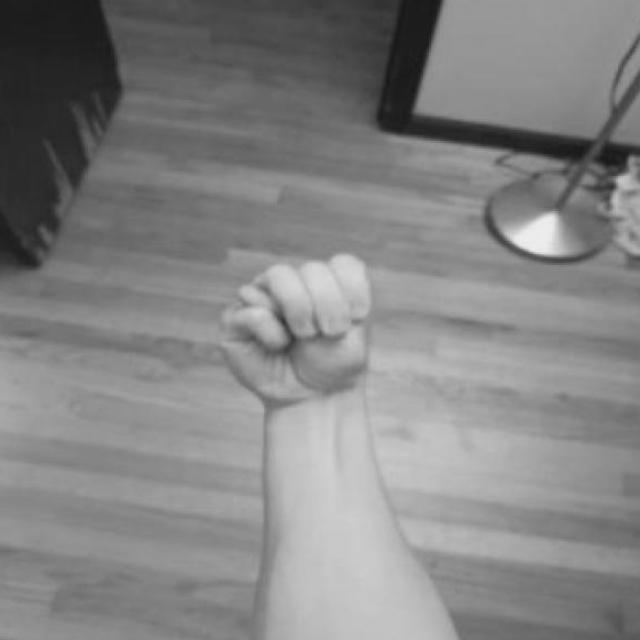M: (203, 248, 398, 418)
